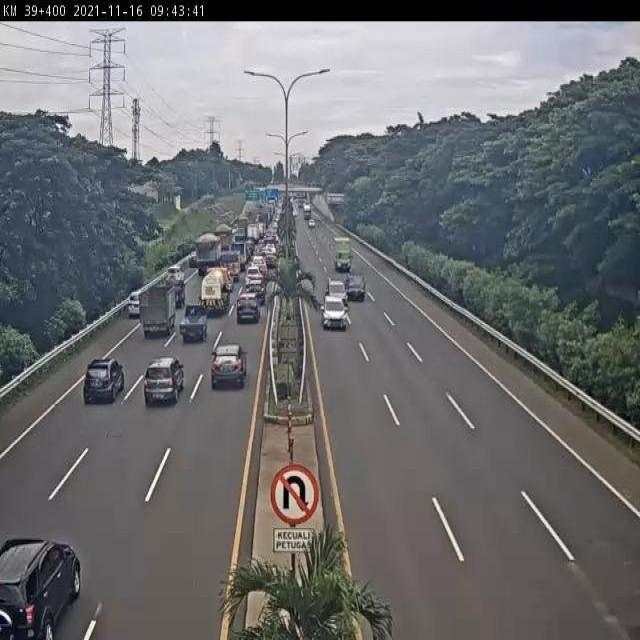car: (0, 526, 90, 640), (70, 352, 129, 417), (134, 352, 189, 416), (202, 344, 248, 400), (229, 293, 261, 332), (319, 290, 349, 330), (121, 284, 148, 321), (343, 269, 368, 304), (242, 279, 267, 309), (154, 271, 176, 296), (244, 263, 264, 285), (246, 275, 267, 293), (185, 247, 202, 269), (252, 253, 267, 272), (264, 251, 278, 268)
small truck: (197, 264, 234, 319), (137, 284, 175, 336), (177, 299, 211, 344), (330, 236, 357, 276), (215, 249, 242, 287), (164, 277, 189, 311)
truck-l-: (193, 227, 227, 277), (213, 220, 235, 252)
